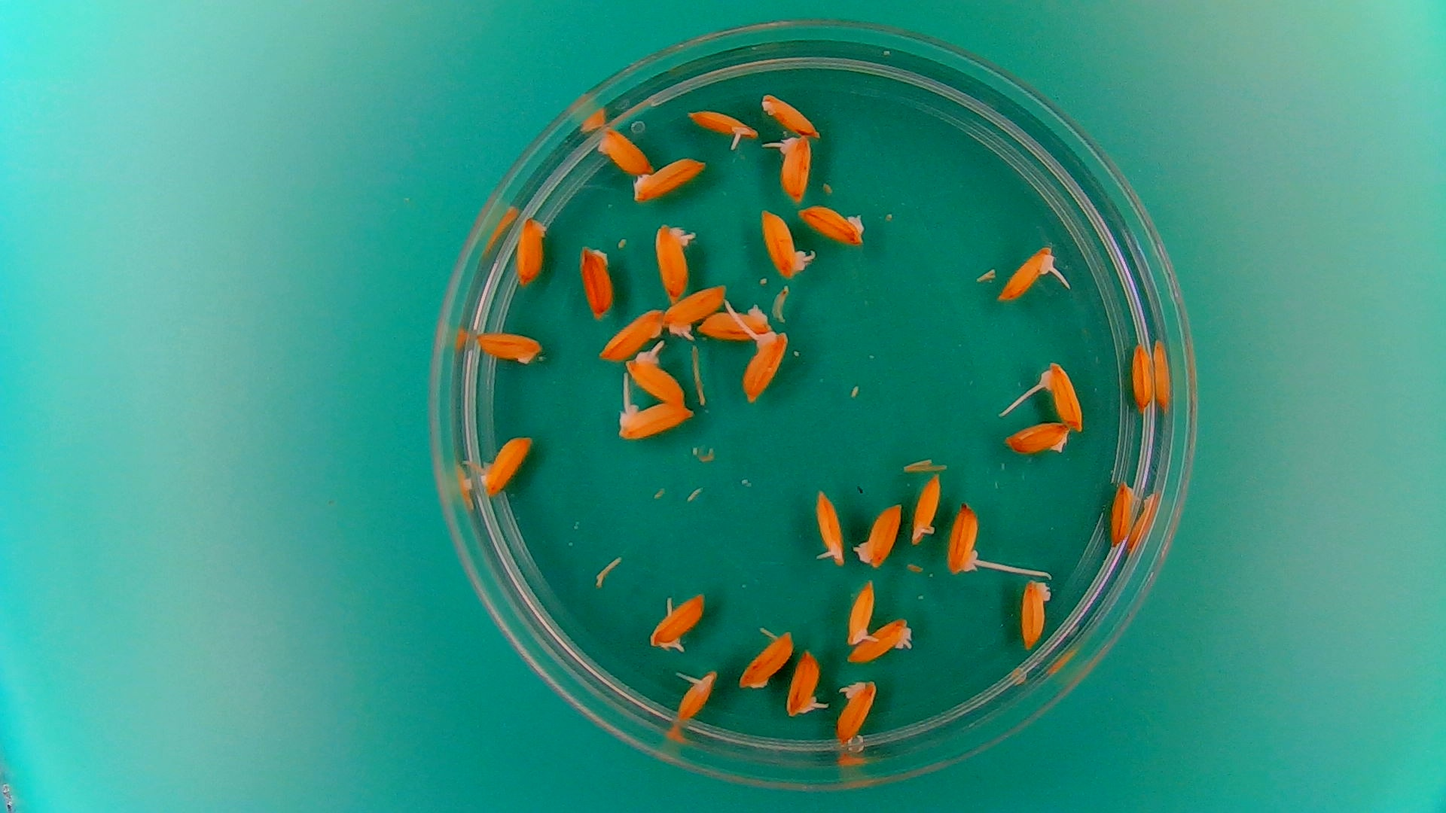no: (630, 152, 710, 202), (852, 498, 904, 570), (738, 625, 796, 689), (597, 306, 664, 361), (795, 201, 869, 248), (471, 325, 548, 368), (758, 89, 823, 139), (593, 123, 654, 176), (1017, 574, 1056, 653), (578, 243, 617, 320), (513, 211, 551, 287), (696, 306, 775, 342), (1002, 419, 1073, 458), (1105, 478, 1139, 550), (1127, 336, 1155, 413)
yes: (624, 343, 694, 409), (756, 206, 816, 279), (609, 392, 694, 443), (472, 430, 536, 496), (651, 220, 700, 301), (994, 242, 1057, 305), (662, 281, 729, 340), (738, 330, 792, 402), (649, 589, 708, 653), (765, 131, 816, 204), (1037, 361, 1088, 432), (846, 614, 917, 664), (834, 676, 881, 750), (811, 484, 850, 568), (682, 105, 758, 148), (784, 646, 826, 720), (908, 467, 946, 547), (945, 502, 982, 583), (672, 666, 719, 723), (843, 577, 877, 648)
